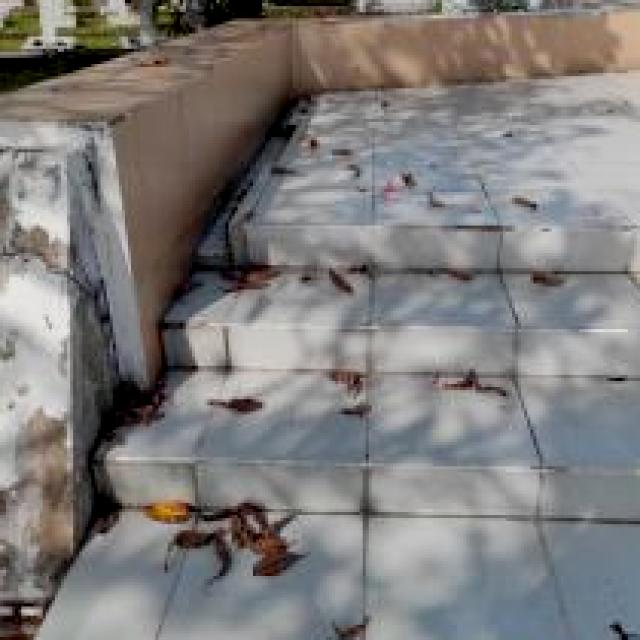upstair: (53, 196, 640, 640)
